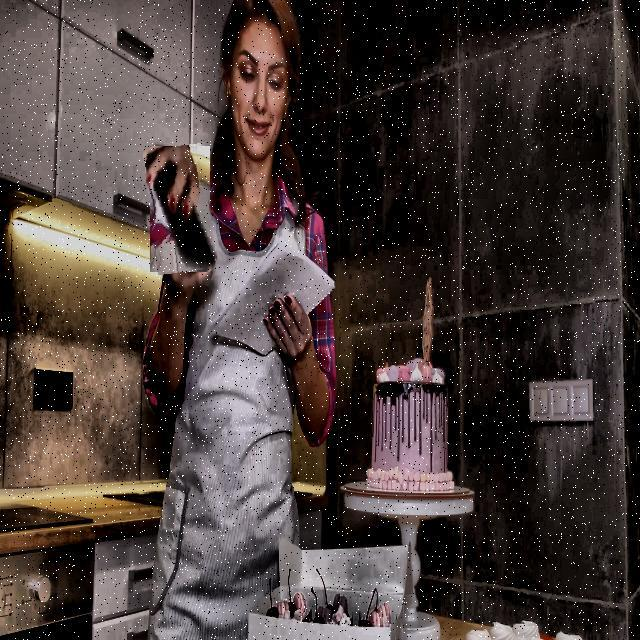Phone: (146, 144, 214, 274)
